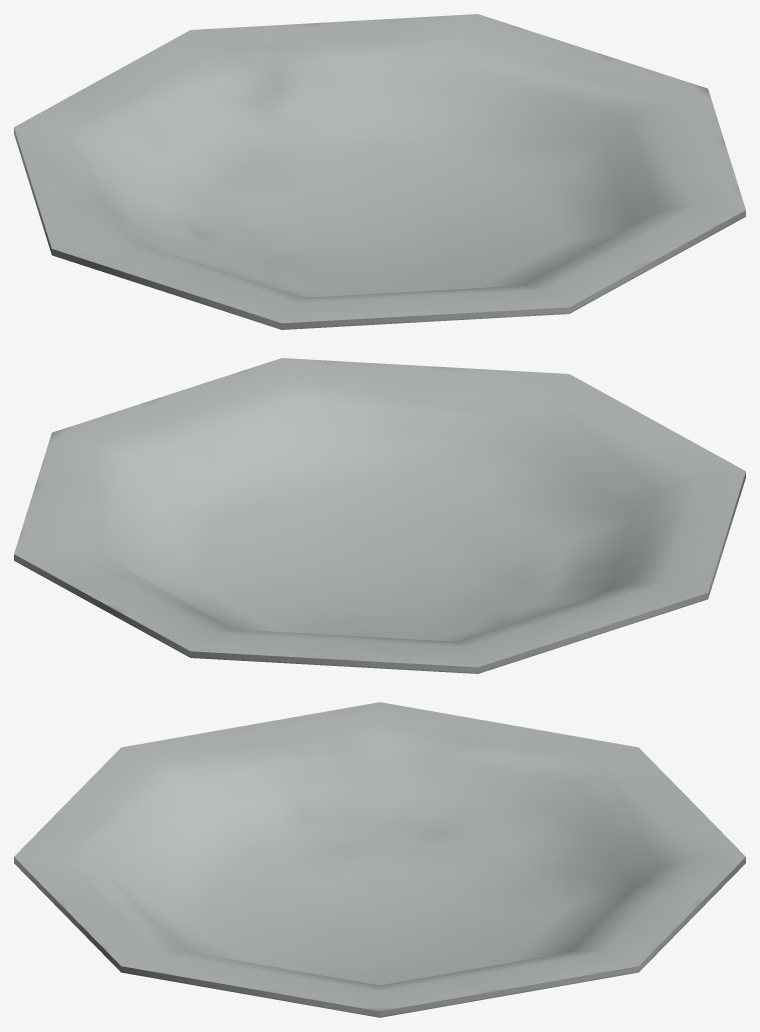
File: plate.obj
3 renders of one model, top to bottom at view 1: azimuth 30°, elevation 25°; view 2: azimuth 150°, elevation 25°; view 3: azimuth 270°, elevation 25°, orthographic. The views are drawn at different scales.
Parts seen in each view (by area): view 1: plate; view 2: plate; view 3: plate.
Boxes of the visible parts, bbox=[...] form: plate: bbox=[14, 14, 745, 329]; plate: bbox=[14, 358, 745, 673]; plate: bbox=[14, 702, 745, 1017].
Bounding box in the file's own units: 0.5197 × 0.0439 × 0.5197.
